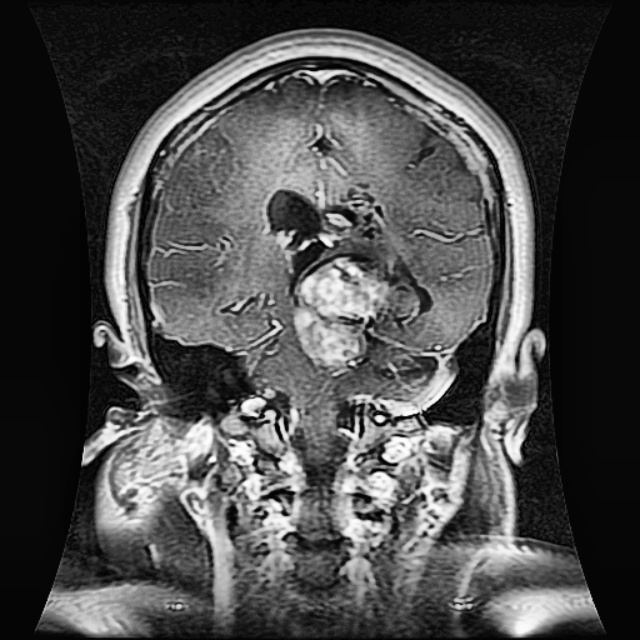Meningioma: (293, 253, 429, 377)
